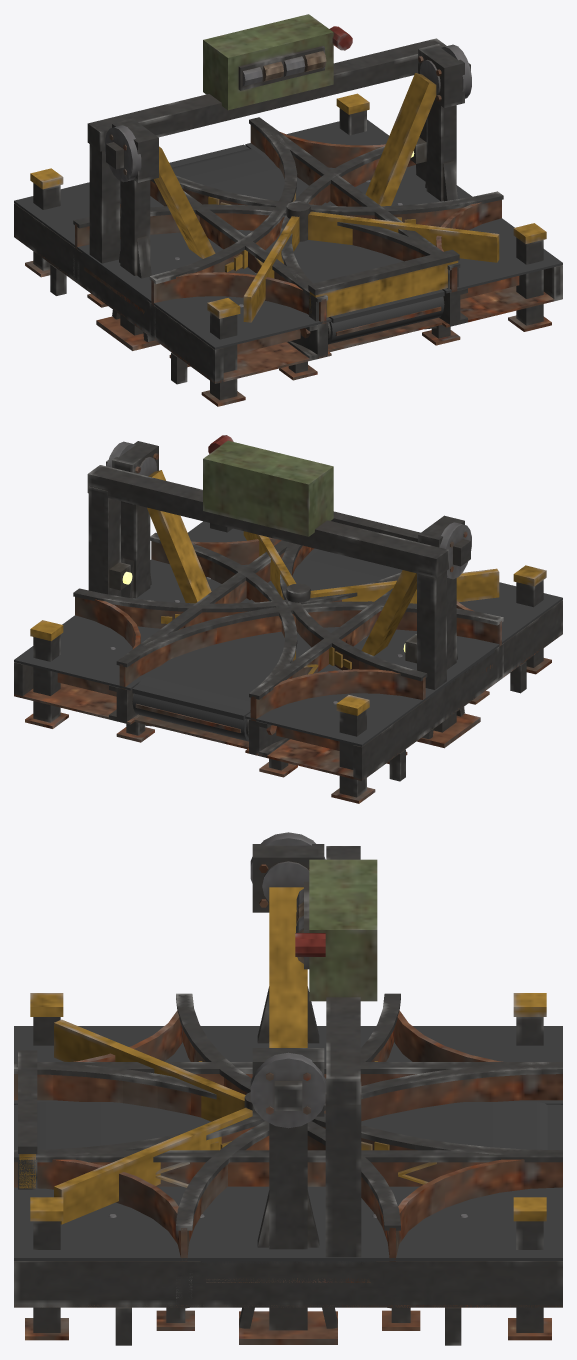
The model's file is feBeltCounter_HD.fbx.
3 views of the same model, one above another, from view 1: azimuth 30°, elevation 25°; view 2: azimuth 150°, elevation 25°; view 3: azimuth 270°, elevation 25° (orthographic). The views are drawn at different scales.
Visible parts, largest first — view 1: FeBeltExtra_Counter, FeBeltFill_R, FeBeltBed, FeBeltDrive_L, FeBeltFill_L, FeBeltDrive_R, FeJunctionPosts, FeJunctionWedge, FeMerge_R, FeBeltEnd, FeMergeRail_R, FeCurveRail_R (+10 smaller); view 2: FeBeltExtra_Counter, FeBeltFill_R, FeBeltBed, FeBeltFill_L, FeCurveRail_R, FeBeltDrive_L, FeCurveSet_R, FeJunctionPosts, FeBeltDrive_R, FeCurveSet_L, FeJunctionWedge, FeCurveRail_L (+8 smaller); view 3: FeBeltFill_L, FeBeltExtra_Counter, FeBeltBed, FeBeltDrive_L, FeCurveSet_L, FeCurveRail_L, FeJunctionWedge, FeBeltDrive_R, FeJunctionPosts, FeRail_L, FeBeltFill_R, FeMergeRail_L (+9 smaller).
Boxes of the visible parts, x1,y1,x2,y2 form: FeBeltExtra_Counter: (87,14,446,263); FeBeltFill_R: (14,181,331,384); FeBeltBed: (172,148,467,360); FeBeltDrive_L: (365,44,464,206); FeBeltFill_L: (245,119,562,327); FeBeltDrive_R: (96,118,215,350); FeJunctionPosts: (25,93,551,406); FeJunctionWedge: (243,201,499,322); FeMerge_R: (83,238,449,380); FeBeltEnd: (308,249,459,321); FeMergeRail_R: (73,204,460,292); FeCurveRail_R: (149,117,297,305); FeBeltExtra_Counter: (87,435,448,689); FeBeltFill_R: (245,582,562,781); FeBeltBed: (109,549,402,757); FeBeltFill_L: (14,521,318,724); FeCurveRail_R: (116,601,503,688); FeBeltDrive_L: (112,441,211,603); FeCurveSet_R: (127,644,503,777); FeJunctionPosts: (25,523,551,803); FeBeltDrive_R: (361,515,480,748); FeCurveSet_L: (75,567,259,755); FeJunctionWedge: (243,531,499,603); FeCurveRail_L: (150,532,297,721); FeBeltFill_L: (14,1186,562,1345); FeBeltExtra_Counter: (295,846,377,1257); FeBeltBed: (37,1102,547,1149); FeBeltDrive_L: (239,1048,337,1344); FeCurveSet_L: (176,1105,562,1330); FeCurveRail_L: (176,1062,562,1261); FeJunctionWedge: (54,1019,252,1224); FeBeltDrive_R: (252,844,324,1047); FeJunctionPosts: (25,993,551,1340); FeRail_L: (14,1150,562,1187); FeBeltFill_R: (14,1026,562,1104); FeMergeRail_L: (14,1062,400,1261).
Size of the model in its own units: 1.02 by 0.6724 by 1.
Materials: 3 (1 with a texture image).
